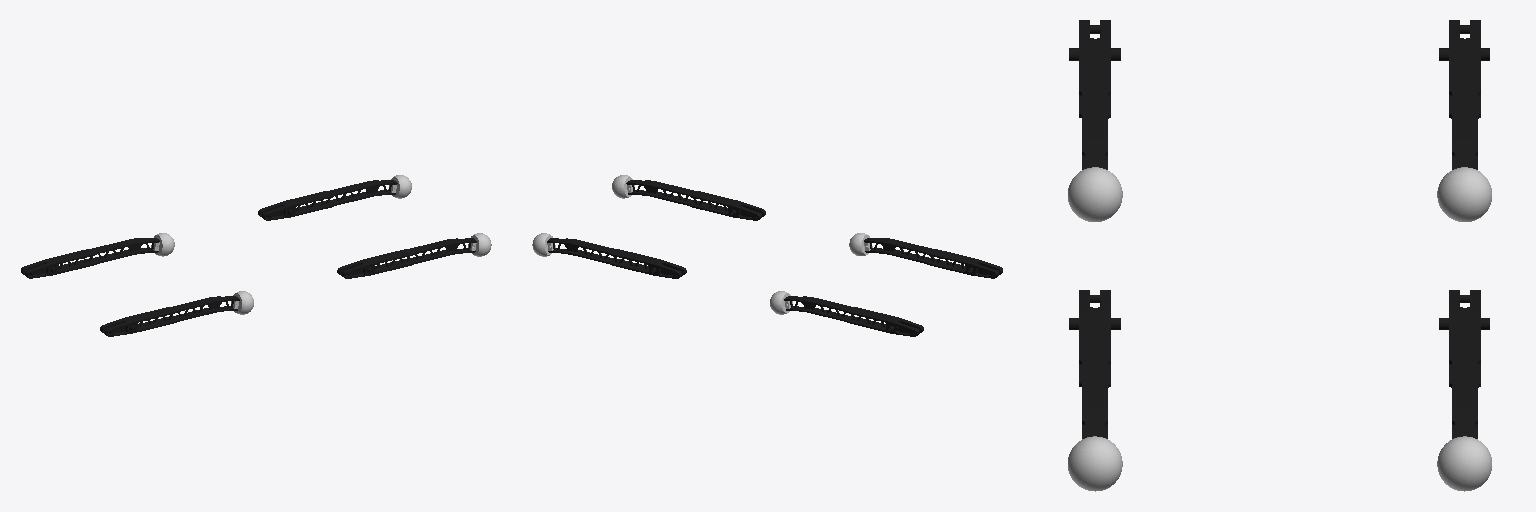
URDF robot description (raibo2):
<?xml version="1.0" encoding="utf-8"?>
<!-- This URDF was automatically created by SolidWorks to URDF Exporter! Originally created by [author] ([email redacted]) 
     Commit Version: 1.6.0-1-g15f4949  Build Version: 1.6.7594.29634
     For more information, please see http://wiki.ros.org/sw_urdf_exporter -->
<robot
  name="raibo2">
<!--  <gear_ratio value="7.154"/>-->
<!--  <battery array="20s4p" cell="4.1V(max)"/> -->
  <material
    name="black">
    <color rgba="0.15 0.15 0.15 1.0"/>
  </material>
  <material
    name="blue">
    <color rgba="0.0 0.125 0.53 1.0"/>
  </material>
  <material
    name="white">
    <color rgba="0.8 0.8 0.8 1"/>
  </material>
  <link
    name="TORSO">
    <inertial>
      <origin
        xyz="0.00808656 -0.00024404 -0.02955114"
        rpy="0 0 0" />
      <mass
        value="20.88747381" /> <!--6.78667481-->
      <inertia
        ixx="0.07169789"
        ixy="0.00125469"
        ixz="-0.00438279"
        iyy="0.15950333"
        iyz="0.00008274"
        izz="0.20200529" />
    </inertial>
    <visual>
      <origin
        xyz="0 0 0"
        rpy="0 0 0" />
      <geometry>
        <mesh
          filename="TORSO.STL" />
      </geometry>
      <material name="black"/>
    </visual>
    <collision>
      <origin
        xyz="0 0 -0.03"
        rpy="0 0 0" />
      <geometry>
        <box size="0.3600 0.28 0.1"/>
      </geometry>
    </collision>
  </link>
  <link
    name="LF_HIP">
    <inertial>
      <origin
        xyz="-0.04992833 -0.01274628 -0.00007579"
        rpy="0 0 0" />
      <mass
        value="1.08440026" />
      <inertia
        ixx="0.00214944"
        ixy="-0.00001088"
        ixz="0.00001303"
        iyy="0.00667289"
        iyz="0.00000494"
        izz="0.00652659" />
    </inertial>
    <visual>
      <origin
        xyz="0 0 0"
        rpy="0 0 0" />
      <geometry>
        <mesh
          filename="LF_HIP.STL" />
      </geometry>
      <material name="black"/>
    </visual>
    <collision>
      <origin rpy="1.57079632679 0 0" xyz="0 0.02652 0"/>
      <geometry>
        <cylinder length="0.17404" radius="0.0595"/>
      </geometry>
    </collision>
  </link>
  <joint
    name="LF_HAA"
    type="revolute">
    <origin
      xyz="0.31748000 0.08900000 -0.02550000"
      rpy="0 0 0" />
    <parent
      link="TORSO" />
    <child
      link="LF_HIP" />
    <axis
      xyz="1 0 0" />
    <limit
      lower="-1.5708"
      upper="1.5708"
      effort="90.8558"
      velocity="35.0091" />
    <dynamics
      rotor_inertia="0.005741839" />
  </joint>
  <link
    name="LF_THIGH">
    <inertial>
      <origin
        xyz="-0.00684236 -0.04194466 -0.03810909"
        rpy="0 0 0" />
      <mass
        value="2.28254163" />
      <inertia
        ixx="0.03203749"
        ixy="-0.00001854"
        ixz="0.00272095"
        iyy="0.02613186"
        iyz="-0.00018644"
        izz="0.01110827" />
    </inertial>
    <visual>
      <origin
        xyz="0 0 0"
        rpy="0 0 0" />
      <geometry>
        <mesh
          filename="LF_THIGH.STL" />
      </geometry>
      <material name="blue"/>
    </visual>
    <collision>
      <origin rpy="0 0 0" xyz="-0.04575 0 -0.20283"/>
      <geometry>
        <box size="0.05150 0.03446 0.23435"/>
      </geometry>
    </collision>
  </link>
  <joint
    name="LF_HFE"
    type="revolute">
    <origin
      xyz="0 0.09531000 0"
      rpy="0 0 0" />
    <parent
      link="LF_HIP" />
    <child
      link="LF_THIGH" />
    <axis
      xyz="0 1 0" />
    <limit
      lower="-6.2832"
      upper="6.2832"
      effort="90.8558"
      velocity="35.0091" />
    <dynamics
       rotor_inertia="0.005741839" />
  </joint>
  <link
    name="LF_SHANK">
    <inertial>
      <origin
        xyz="0.00279889 -0.00006925 -0.07665272"
        rpy="0 0 0" />
      <mass
        value="0.32438854" />
      <inertia
        ixx="0.00524352"
        ixy="-0.00000004"
        ixz="-0.00018064"
        iyy="0.00525638"
        iyz="0.00000087"
        izz="0.00006836" />
    </inertial>
    <visual>
      <origin
        xyz="0 0 0"
        rpy="0 0 0" />
      <geometry>
        <mesh
          filename="LF_SHANK.STL" />
      </geometry>
      <material name="black"/>
    </visual>
    <collision>
      <origin rpy="0 1.528031849 0" xyz="0.00606 0 -0.14162"/>
      <geometry>
        <box size="0.1765 0.02586 0.029"/>
      </geometry>
    </collision>
  </link>
  <joint
    name="LF_KFE"
    type="revolute">
    <origin
      xyz="0 0 -0.32"
      rpy="0 0 0" />
    <parent
      link="LF_THIGH" />
    <child
      link="LF_SHANK" />
    <axis
      xyz="0 1 0" />
    <limit
      lower="-2.6417"
      upper="-0.41469"
      effort="90.8558"
      velocity="35.0091" />
    <dynamics
       rotor_inertia="0.005741839" />
  </joint>
  <link
    name="LF_FOOT">
    <inertial>
      <origin
        xyz="-0.00009326 -0.00004929 -0.00193101"
        rpy="0 0 0" />
      <mass
        value="0.10226963" />
      <inertia
        ixx="0.00002756"
        ixy="0.00000000"
        ixz="-0.00000042"
        iyy="0.00002783"
        iyz="0.00000004"
        izz="0.00003031" />
    </inertial>
    <visual>
      <origin
        xyz="0 0 0"
        rpy="0 0 0" />
      <geometry>
        <mesh
          filename="LF_FOOT.STL" />
      </geometry>
      <material name="white"/>
    </visual>
    <collision>
      <origin rpy="1.57079632679 0 0" xyz="0 0 0"/>
      <geometry>
        <sphere radius="0.0275"/>
      </geometry>
    </collision>
  </link>
  <joint
    name="LF_S2F"
    type="fixed">
    <origin
      xyz="0 0 -0.30404017"
      rpy="0 0 0" />
    <parent
      link="LF_SHANK" />
    <child
      link="LF_FOOT" />
    <axis
      xyz="0 0 0" />
  </joint>
  <link
    name="RF_HIP">
    <inertial>
      <origin
        xyz="-0.04992833 0.01274628 0.00007579"
        rpy="0 0 0" />
      <mass
        value="1.08440026" />
      <inertia
        ixx="0.00214944"
        ixy="0.00001088"
        ixz="-0.00001303"
        iyy="0.00667289"
        iyz="0.00000494"
        izz="0.00652659" />
    </inertial>
    <visual>
      <origin
        xyz="0 0 0"
        rpy="0 0 0" />
      <geometry>
        <mesh
          filename="RF_HIP.STL" />
      </geometry>
      <material name="black"/>
    </visual>
    <collision>
      <origin rpy="1.57079632679 0 0" xyz="0 -0.02652 0"/>
      <geometry>
        <cylinder length="0.17404" radius="0.0595"/>
      </geometry>
    </collision>
  </link>
  <joint
    name="RF_HAA"
    type="revolute">
    <origin
      xyz="0.31748000 -0.08900000 -0.02550000"
      rpy="0 0 0" />
    <parent
      link="TORSO" />
    <child
      link="RF_HIP" />
    <axis
      xyz="1 0 0" />
    <limit
      lower="-1.5708"
      upper="1.5708"
      effort="90.8558"
      velocity="35.0091" />
    <dynamics
       rotor_inertia="0.005741839" />
  </joint>
  <link
    name="RF_THIGH">
    <inertial>
      <origin
        xyz="-0.00691969 0.04276363 -0.03811739"
        rpy="0 0 0" />
      <mass
        value="2.28253866" />
      <inertia
        ixx="0.03200360"
        ixy="-0.00003375"
        ixz="0.00275091"
        iyy="0.02613186"
        iyz="-0.00033665"
        izz="0.01114217" />
    </inertial>
    <visual>
      <origin
        xyz="0 0 0"
        rpy="0 0 0" />
      <geometry>
        <mesh
          filename="RF_THIGH.STL" />
      </geometry>
      <material name="blue"/>
    </visual>
    <collision>
      <origin rpy="0 0 0" xyz="-0.04575 0 -0.20283"/>
      <geometry>
        <box size="0.05150 0.03446 0.23435"/>
      </geometry>
    </collision>
  </link>
  <joint
    name="RF_HFE"
    type="revolute">
    <origin
      xyz="0 -0.09531000 0"
      rpy="0 0 0" />
    <parent
      link="RF_HIP" />
    <child
      link="RF_THIGH" />
    <axis
      xyz="0 1 0" />
    <limit
      lower="-6.2832"
      upper="6.2832"
      effort="90.8558"
      velocity="35.0091" />
    <dynamics
       rotor_inertia="0.005741839" />
  </joint>
  <link
    name="RF_SHANK">
    <inertial>
      <origin
        xyz="0.00279889 -0.00006925 -0.07665272"
        rpy="0 0 0" />
      <mass
        value="0.32438854" />
      <inertia
        ixx="0.00524352"
        ixy="-0.00000004"
        ixz="-0.00018064"
        iyy="0.00525638"
        iyz="0.00000087"
        izz="0.00006836" />
    </inertial>
    <visual>
      <origin
        xyz="0 0 0"
        rpy="0 0 0" />
      <geometry>
        <mesh
          filename="RF_SHANK.STL" />
      </geometry>
      <material name="black"/>
    </visual>
    <collision>
      <origin rpy="0 1.528031849 0" xyz="0.00606 0 -0.14162"/>
      <geometry>
        <box size="0.1765 0.02586 0.029"/>
      </geometry>
    </collision>
  </link>
  <joint
    name="RF_KFE"
    type="revolute">
    <origin
      xyz="0 0 -0.32"
      rpy="0 0 0" />
    <parent
      link="RF_THIGH" />
    <child
      link="RF_SHANK" />
    <axis
      xyz="0 1 0" />
    <limit
      lower="-2.6417"
      upper="-0.41469"
      effort="90.8558"
      velocity="35.0091" />
    <dynamics
       rotor_inertia="0.005741839" />
  </joint>
  <link
    name="RF_FOOT">
    <inertial>
      <origin
        xyz="-0.00009326 -0.00004929 -0.00193101"
        rpy="0 0 0" />
      <mass
        value="0.10226963" />
      <inertia
        ixx="0.00002756"
        ixy="0.00000000"
        ixz="-0.00000042"
        iyy="0.00002783"
        iyz="0.00000004"
        izz="0.00003031" />
    </inertial>
    <visual>
      <origin
        xyz="0 0 0"
        rpy="0 0 0" />
      <geometry>
        <mesh
          filename="RF_FOOT.STL" />
      </geometry>
      <material name="white"/>
    </visual>
    <collision>
      <origin rpy="1.57079632679 0 0" xyz="0 0 0"/>
      <geometry>
        <sphere radius="0.0275"/>
      </geometry>
    </collision>
  </link>
  <joint
    name="RF_S2F"
    type="fixed">
    <origin
      xyz="0 0 -0.30404017"
      rpy="0 0 0" />
    <parent
      link="RF_SHANK" />
    <child
      link="RF_FOOT" />
    <axis
      xyz="0 0 0" />
  </joint>
  <link
    name="LH_HIP">
    <inertial>
      <origin
        xyz="0.04992833 -0.01274628 0.00007579"
        rpy="0 0 0" />
      <mass
        value="1.08440026" />
      <inertia
        ixx="0.00214944"
        ixy="0.00001088"
        ixz="0.00001303"
        iyy="0.00667289"
        iyz="-0.00000494"
        izz="0.00652659" />
    </inertial>
    <visual>
      <origin
        xyz="0 0 0"
        rpy="0 0 0" />
      <geometry>
        <mesh
          filename="LH_HIP.STL" />
      </geometry>
      <material name="black"/>
    </visual>
    <collision>
      <origin rpy="1.57079632679 0 0" xyz="0 0.02652 0"/>
      <geometry>
        <cylinder length="0.17404" radius="0.0595"/>
      </geometry>
    </collision>
  </link>
  <joint
    name="LH_HAA"
    type="revolute">
    <origin
      xyz="-0.31748000 0.08900000 -0.02550000"
      rpy="0 0 0" />
    <parent
      link="TORSO" />
    <child
      link="LH_HIP" />
    <axis
      xyz="1 0 0" />
    <limit
      lower="-1.5708"
      upper="1.5708"
      effort="90.8558"
      velocity="35.0091" />
    <dynamics
       rotor_inertia="0.005741839" />
  </joint>
  <link
    name="LH_THIGH">
    <inertial>
      <origin
        xyz="-0.00693936 -0.04250426 -0.03424034"
        rpy="0 0 0" />
      <mass
        value="2.25161565" />
      <inertia
        ixx="0.02886313"
        ixy="-0.00000084"
        ixz="0.00272095"
        iyy="0.02296431"
        iyz="-0.00018064"
        izz="0.01110074" />
    </inertial>
    <visual>
      <origin
        xyz="0 0 0"
        rpy="0 0 0" />
      <geometry>
        <mesh
          filename="LH_THIGH.STL" />
      </geometry>
      <material name="blue"/>
    </visual>
    <collision>
      <origin rpy="0 0 0" xyz="-0.04575 0 -0.20283"/>
      <geometry>
        <box size="0.05150 0.03446 0.23435"/>
      </geometry>
    </collision>
  </link>
  <joint
    name="LH_HFE"
    type="revolute">
    <origin
      xyz="0 0.09531000 0"
      rpy="0 0 0" />
    <parent
      link="LH_HIP" />
    <child
      link="LH_THIGH" />
    <axis
      xyz="0 1 0" />
    <limit
      lower="-6.2832"
      upper="6.2832"
      effort="90.8558"
      velocity="35.0091" />
    <dynamics
       rotor_inertia="0.005741839" />
  </joint>
  <link
    name="LH_SHANK">
    <inertial>
      <origin
        xyz="0.00279889 -0.00006925 -0.07665272"
        rpy="0 0 0" />
      <mass
        value="0.32438854" />
      <inertia
        ixx="0.00524352"
        ixy="-0.00000004"
        ixz="-0.00018064"
        iyy="0.00525638"
        iyz="0.00000087"
        izz="0.00006836" />
    </inertial>
    <visual>
      <origin
        xyz="0 0 0"
        rpy="0 0 0" />
      <geometry>
        <mesh
          filename="LH_SHANK.STL" />
      </geometry>
      <material name="black"/>
    </visual>
    <collision>
      <origin rpy="0 1.528031849 0" xyz="0.00606 0 -0.14162"/>
      <geometry>
        <box size="0.1765 0.02586 0.029"/>
      </geometry>
    </collision>
  </link>
  <joint
    name="LH_KFE"
    type="revolute">
    <origin
      xyz="0 0 -0.32"
      rpy="0 0 0" />
    <parent
      link="LH_THIGH" />
    <child
      link="LH_SHANK" />
    <axis
      xyz="0 1 0" />
    <limit
      lower="-2.6417"
      upper="-0.41469"
      effort="90.8558"
      velocity="35.0091" />
    <dynamics
       rotor_inertia="0.005741839" />
  </joint>
  <link
    name="LH_FOOT">
    <inertial>
      <origin
        xyz="-0.00009326 -0.00004929 -0.00193101"
        rpy="0 0 0" />
      <mass
        value="0.10226963" />
      <inertia
        ixx="0.00002756"
        ixy="0.00000000"
        ixz="-0.00000042"
        iyy="0.00002783"
        iyz="0.00000004"
        izz="0.00003031" />
    </inertial>
    <visual>
      <origin
        xyz="0 0 0"
        rpy="0 0 0" />
      <geometry>
        <mesh
          filename="LH_FOOT.STL" />
      </geometry>
      <material name="white"/>
    </visual>
    <collision>
      <origin rpy="1.57079632679 0 0" xyz="0 0 0"/>
      <geometry>
        <sphere radius="0.0275"/>
      </geometry>
    </collision>
  </link>
  <joint
    name="LH_S2F"
    type="fixed">
    <origin
      xyz="0 0 -0.30404017"
      rpy="0 0 0" />
    <parent
      link="LH_SHANK" />
    <child
      link="LH_FOOT" />
    <axis
      xyz="0 0 0" />
  </joint>
  <link
    name="RH_HIP">
    <inertial>
      <origin
        xyz="0.04992833 0.01274628 -0.00007579"
        rpy="0 0 0" />
      <mass
        value="1.08440026" />
      <inertia
        ixx="0.00214944"
        ixy="-0.00001088"
        ixz="-0.00001303"
        iyy="0.00667289"
        iyz="-0.00000494"
        izz="0.00652659" />
    </inertial>
    <visual>
      <origin
        xyz="0 0 0"
        rpy="0 0 0" />
      <geometry>
        <mesh
          filename="RH_HIP.STL" />
      </geometry>
      <material name="black"/>
    </visual>
    <collision>
      <origin rpy="1.57079632679 0 0" xyz="0 -0.02652 0"/>
      <geometry>
        <cylinder length="0.17404" radius="0.0595"/>
      </geometry>
    </collision>
  </link>
  <joint
    name="RH_HAA"
    type="revolute">
    <origin
      xyz="-0.31748000 -0.08900000 -0.02550000"
      rpy="0 0 0" />
    <parent
      link="TORSO" />
    <child
      link="RH_HIP" />
    <axis
      xyz="1 0 0" />
    <limit
      lower="-1.5708"
      upper="1.5708"
      effort="90.8558"
      velocity="35.0091" />
    <dynamics
       rotor_inertia="0.005741839" />
  </joint>
  <link
    name="RH_THIGH">
    <inertial>
      <origin
        xyz="-0.00701775 0.04336750 -0.03424270"
        rpy="0 0 0" />
      <mass
        value="2.25161268" />
      <inertia
        ixx="0.02882924"
        ixy="-0.00005145"
        ixz="0.00275091"
        iyy="0.02296431"
        iyz="-0.00033085"
        izz="0.01113463" />
    </inertial>
    <visual>
      <origin
        xyz="0 0 0"
        rpy="0 0 0" />
      <geometry>
        <mesh
          filename="RH_THIGH.STL" />
      </geometry>
      <material name="blue"/>
    </visual>
    <collision>
      <origin rpy="0 0 0" xyz="-0.04575 0 -0.20283"/>
      <geometry>
        <box size="0.05150 0.03446 0.23435"/>
      </geometry>
    </collision>
  </link>
  <joint
    name="RH_HFE"
    type="revolute">
    <origin
      xyz="0 -0.09531000 0"
      rpy="0 0 0" />
    <parent
      link="RH_HIP" />
    <child
      link="RH_THIGH" />
    <axis
      xyz="0 1 0" />
    <limit
      lower="-6.2832"
      upper="6.2832"
      effort="90.8558"
      velocity="35.0091" />
    <dynamics
       rotor_inertia="0.005741839" />
  </joint>
  <link
    name="RH_SHANK">
    <inertial>
      <origin
        xyz="0.00279889 -0.00006925 -0.07665272"
        rpy="0 0 0" />
      <mass
        value="0.32438854" />
      <inertia
        ixx="0.00524352"
        ixy="-0.00000004"
        ixz="-0.00018064"
        iyy="0.00525638"
        iyz="0.00000087"
        izz="0.00006836" />
    </inertial>
    <visual>
      <origin
        xyz="0 0 0"
        rpy="0 0 0" />
      <geometry>
        <mesh
          filename="RH_SHANK.STL" />
      </geometry>
      <material name="black"/>
    </visual>
    <collision>
      <origin rpy="0 1.528031849 0" xyz="0.00606 0 -0.14162"/>
      <geometry>
        <box size="0.1765 0.02586 0.029"/>
      </geometry>
    </collision>
  </link>
  <joint
    name="RH_KFE"
    type="revolute">
    <origin
      xyz="0 0 -0.32"
      rpy="0 0 0" />
    <parent
      link="RH_THIGH" />
    <child
      link="RH_SHANK" />
    <axis
      xyz="0 1 0" />
    <limit
      lower="-2.6417"
      upper="-0.41469"
      effort="90.8558"
      velocity="35.0091" />
    <dynamics
       rotor_inertia="0.005741839" />
  </joint>
  <link
    name="RH_FOOT">
    <inertial>
      <origin
        xyz="-0.00009326 -0.00004929 -0.00193101"
        rpy="0 0 0" />
      <mass
        value="0.10226963" />
      <inertia
        ixx="0.00002756"
        ixy="0.00000000"
        ixz="-0.00000042"
        iyy="0.00002783"
        iyz="0.00000004"
        izz="0.00003031" />
    </inertial>
    <visual>
      <origin
        xyz="0 0 0"
        rpy="0 0 0" />
      <geometry>
        <mesh
          filename="RH_FOOT.STL" />
      </geometry>
      <material name="white"/>
    </visual>
    <collision>
      <origin rpy="1.57079632679 0 0" xyz="0 0 0"/>
      <geometry>
        <sphere radius="0.0275"/>
      </geometry>
    </collision>
  </link>
  <joint
    name="RH_S2F"
    type="fixed">
    <origin
      xyz="0 0 -0.30404017"
      rpy="0 0 0" />
    <parent
      link="RH_SHANK" />
    <child
      link="RH_FOOT" />
    <axis
      xyz="0 0 0" />
  </joint>
</robot>

--- Facts derived from the render (not from the file) ---
Views: 3 orthographic renders of the robot side by side, from view 1: azimuth 30°, elevation 25°; view 2: azimuth 150°, elevation 25°; view 3: azimuth 270°, elevation 25°.
Robot: raibo2 — 17 links, 16 joints (12 revolute, 4 fixed); root link TORSO; default pose: all joints at 0 but 4 set to mid-range because 0 is outside their limits (LF_KFE = -1.53, RF_KFE = -1.53, LH_KFE = -1.53, RH_KFE = -1.53).
Visible links, largest first — view 1: LH_SHANK, LF_SHANK, RH_SHANK, RF_SHANK; view 2: RH_SHANK, RF_SHANK, LH_SHANK, LF_SHANK; view 3: RH_SHANK, LH_SHANK, RF_SHANK, LF_SHANK, LF_FOOT, RF_FOOT, LH_FOOT, RH_FOOT.
Link boxes in pixels (x1,y1,x2,y2): LH_SHANK: [21, 238, 159, 278]; LF_SHANK: [258, 180, 397, 220]; RH_SHANK: [100, 296, 239, 336]; RF_SHANK: [337, 238, 476, 278]; RH_SHANK: [864, 238, 1002, 278]; RF_SHANK: [626, 180, 765, 220]; LH_SHANK: [784, 296, 923, 336]; LF_SHANK: [547, 238, 686, 278]; RH_SHANK: [1069, 20, 1120, 169]; LH_SHANK: [1439, 20, 1489, 169]; RF_SHANK: [1069, 290, 1120, 438]; LF_SHANK: [1439, 290, 1489, 438]; LF_FOOT: [1437, 436, 1491, 491]; RF_FOOT: [1068, 436, 1122, 491]; LH_FOOT: [1437, 167, 1491, 221]; RH_FOOT: [1068, 167, 1122, 221].
Bounding box of the posed robot: 1.03 × 0.4236 × 0.055 m (x, y, z).
8 mesh visuals loaded from 17 distinct referenced files (8 binary STL); not drawn: 9 (reference not matched to a file when rendering).